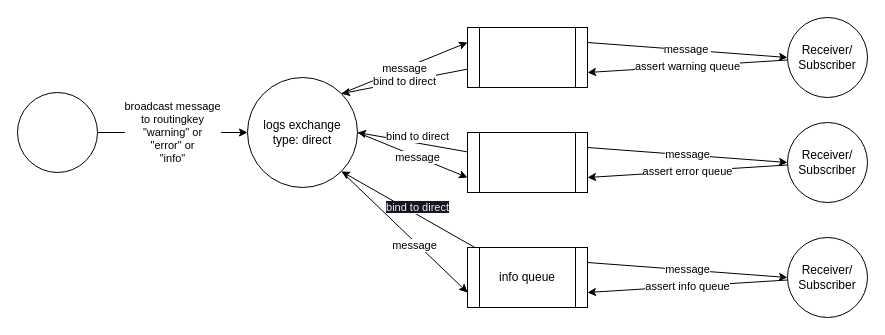
The diagram is 885 pixels wide and 335 high, and some of its shapes have lost their labels. The centre of each missing label's shape, as x and y in pixels:
"error queue" goes at point (527, 162).
"Producer" goes at point (57, 132).
"warning queue" goes at point (527, 57).
